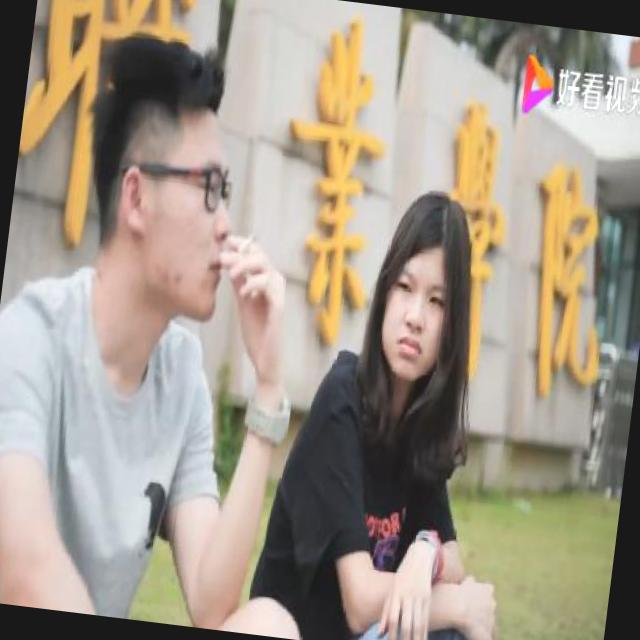smoke: (230, 222, 264, 272)
